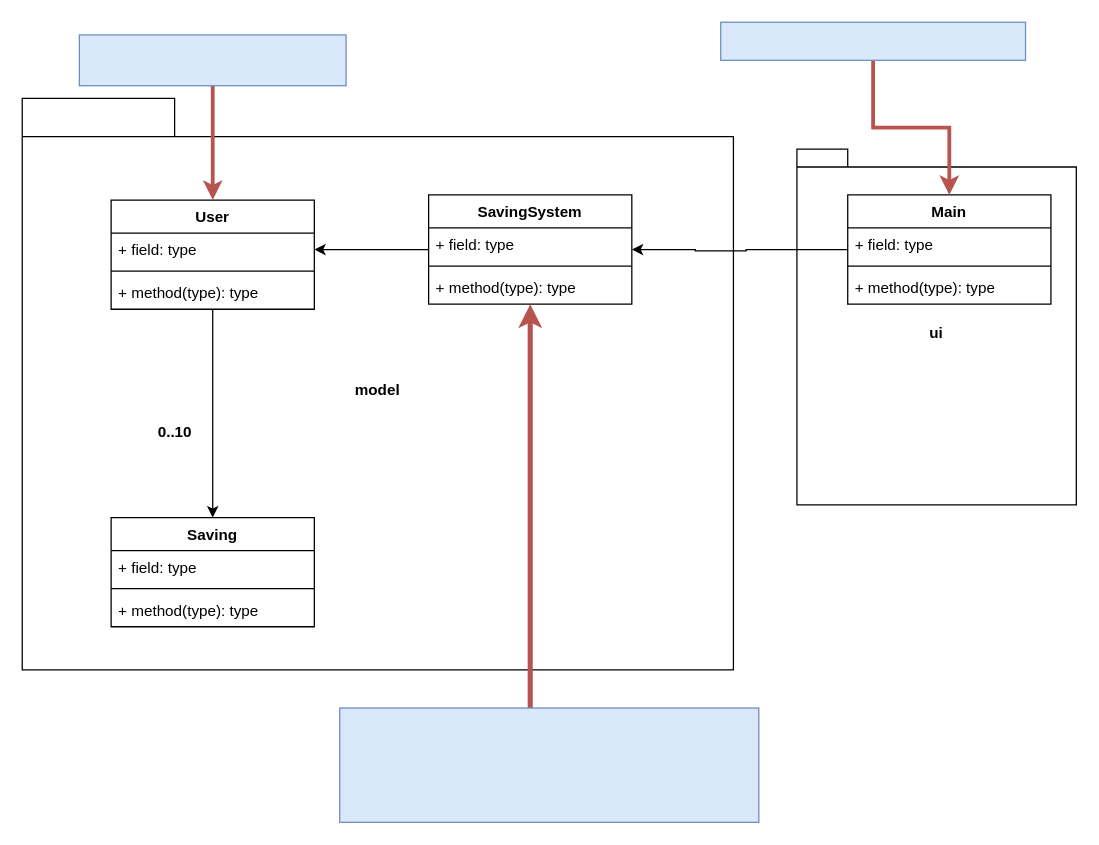
The diagram is 1099 pixels wide and 845 high, and some of its shapes have lost their labels. The shapes that lost their labels are listed below. From the top down, each one's centre as x and y in pixels, then its label:
the point at 212,60: Información de mi programa
the point at 872,40: Interactuar con el Usuario
the point at 548,764: Controlador del modelo-> se encarga de conectar los dos paquetes
